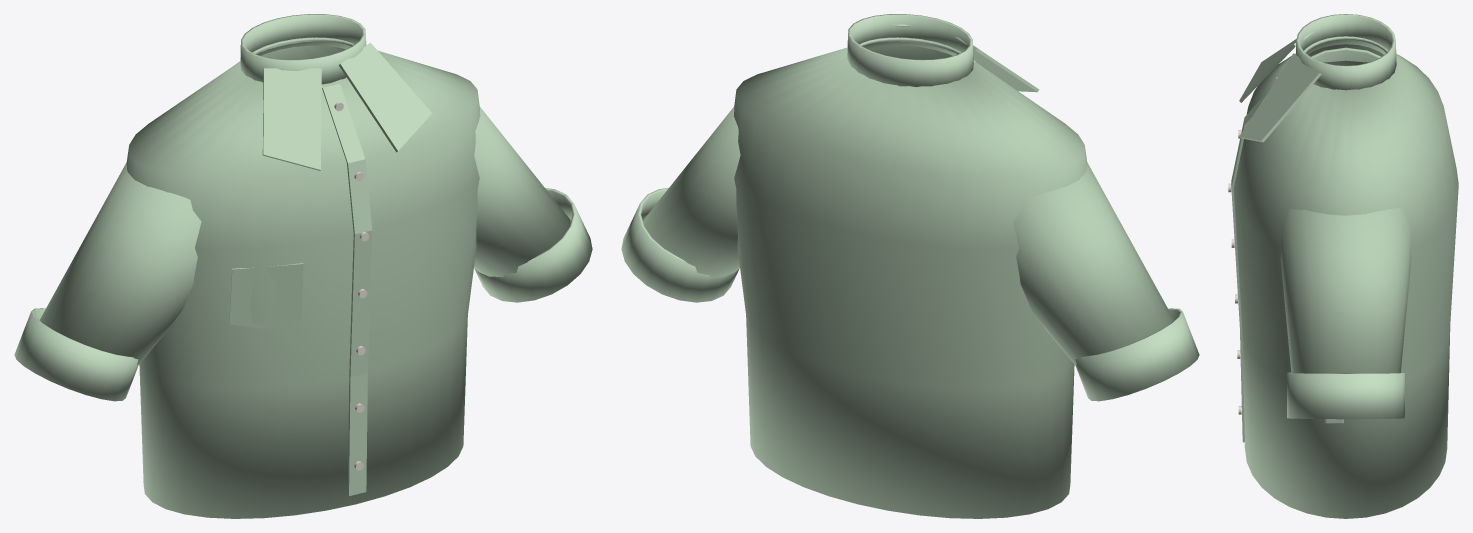
Rendered from shirt_rolled_sleeve.glb.
The picture shows the model from 3 angles, left to right: view 1: azimuth 30°, elevation 25°; view 2: azimuth 150°, elevation 25°; view 3: azimuth 270°, elevation 25°; orthographic projection. The views are drawn at different scales.
Parts seen in each view (by area): view 1: Rolled_Sleeve_Shirt_Open_Body, Rolled_Sleeve_Shirt_Rolled_Sleeve, Rolled_Sleeve_Shirt_Rolled_Sleeve.001, Rolled_Sleeve_Shirt_Button_Placket, Rolled_Sleeve_Shirt_Wide_Rolled_Cuff, Rolled_Sleeve_Shirt_Pointed_Collar, Rolled_Sleeve_Shirt_Standing_Collar, Rolled_Sleeve_Shirt_Wide_Rolled_Cuff.001, Rolled_Sleeve_Shirt_Pointed_Collar.001, Rolled_Sleeve_Shirt_Chest_Pocket; view 2: Rolled_Sleeve_Shirt_Open_Body, Rolled_Sleeve_Shirt_Rolled_Sleeve, Rolled_Sleeve_Shirt_Rolled_Sleeve.001, Rolled_Sleeve_Shirt_Standing_Collar, Rolled_Sleeve_Shirt_Wide_Rolled_Cuff, Rolled_Sleeve_Shirt_Wide_Rolled_Cuff.001, Rolled_Sleeve_Shirt_Pointed_Collar; view 3: Rolled_Sleeve_Shirt_Open_Body, Rolled_Sleeve_Shirt_Rolled_Sleeve.001, Rolled_Sleeve_Shirt_Wide_Rolled_Cuff.001, Rolled_Sleeve_Shirt_Standing_Collar, Rolled_Sleeve_Shirt_Pointed_Collar.001, Rolled_Sleeve_Shirt_Button_Placket, Rolled_Sleeve_Shirt_Pointed_Collar, Rolled_Sleeve_Shirt_Rolled_Sleeve.
Boxes of the visible parts, x1,y1,x2,y2 form: Rolled_Sleeve_Shirt_Open_Body: [126, 37, 480, 518]; Rolled_Sleeve_Shirt_Rolled_Sleeve: [39, 162, 201, 365]; Rolled_Sleeve_Shirt_Rolled_Sleeve.001: [474, 106, 570, 277]; Rolled_Sleeve_Shirt_Button_Placket: [322, 84, 372, 496]; Rolled_Sleeve_Shirt_Wide_Rolled_Cuff: [14, 308, 138, 401]; Rolled_Sleeve_Shirt_Pointed_Collar: [262, 68, 321, 170]; Rolled_Sleeve_Shirt_Standing_Collar: [240, 14, 366, 84]; Rolled_Sleeve_Shirt_Wide_Rolled_Cuff.001: [474, 188, 592, 302]; Rolled_Sleeve_Shirt_Pointed_Collar.001: [339, 42, 432, 152]; Rolled_Sleeve_Shirt_Chest_Pocket: [229, 263, 303, 329]; Rolled_Sleeve_Shirt_Open_Body: [733, 37, 1087, 518]; Rolled_Sleeve_Shirt_Rolled_Sleeve: [1013, 162, 1174, 364]; Rolled_Sleeve_Shirt_Rolled_Sleeve.001: [643, 106, 740, 277]; Rolled_Sleeve_Shirt_Standing_Collar: [847, 14, 973, 87]; Rolled_Sleeve_Shirt_Wide_Rolled_Cuff: [1075, 308, 1199, 401]; Rolled_Sleeve_Shirt_Wide_Rolled_Cuff.001: [621, 188, 739, 302]; Rolled_Sleeve_Shirt_Pointed_Collar: [955, 37, 1039, 92]; Rolled_Sleeve_Shirt_Open_Body: [1233, 36, 1458, 518]; Rolled_Sleeve_Shirt_Rolled_Sleeve.001: [1280, 208, 1411, 373]; Rolled_Sleeve_Shirt_Wide_Rolled_Cuff.001: [1287, 372, 1404, 419]; Rolled_Sleeve_Shirt_Standing_Collar: [1296, 14, 1396, 90]; Rolled_Sleeve_Shirt_Pointed_Collar.001: [1239, 53, 1321, 142]; Rolled_Sleeve_Shirt_Button_Placket: [1231, 88, 1270, 442]; Rolled_Sleeve_Shirt_Pointed_Collar: [1239, 31, 1313, 102]; Rolled_Sleeve_Shirt_Rolled_Sleeve: [1311, 47, 1381, 62].
Size of the model in its own units: 0.8035 by 0.5871 by 0.3007.
